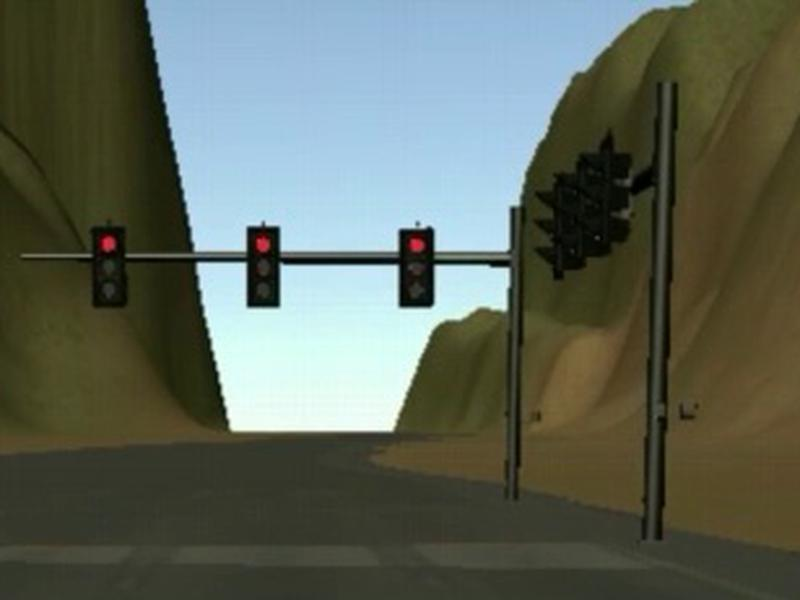Red: (90, 226, 128, 309), (398, 229, 434, 307), (246, 225, 279, 309)
